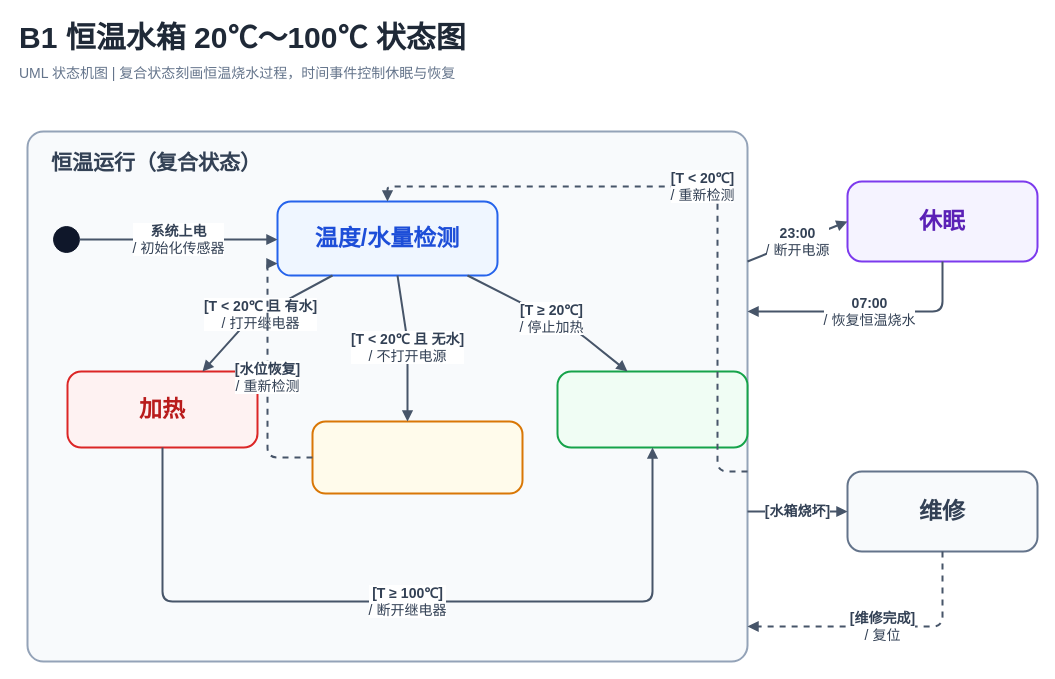
The diagram is 1055 pixels wide and 679 high, and some of its shapes have lost their labels. The centre of each missing label's shape, as x and y in pixels:
停止加热: pixel 652 409
无水保护: pixel 417 457
